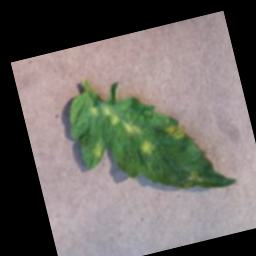Leaf_Mold: (100, 96, 143, 141), (89, 137, 110, 161), (164, 120, 186, 142), (138, 138, 157, 157)
